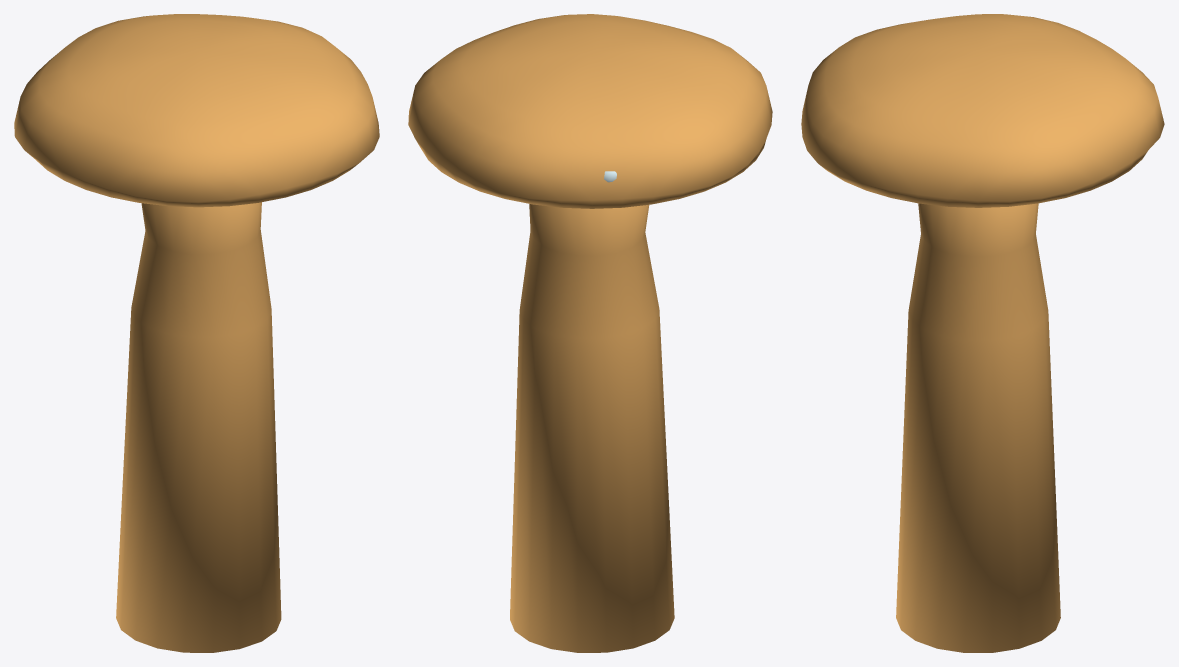
The model's file is mushroom_step_v2.glb.
The picture shows the model from 3 angles, left to right: view 1: azimuth 30°, elevation 25°; view 2: azimuth 150°, elevation 25°; view 3: azimuth 270°, elevation 25°; orthographic projection.
Parts seen in each view (by area): view 1: SM_Forest_MushroomStep_V2; view 2: SM_Forest_MushroomStep_V2; view 3: SM_Forest_MushroomStep_V2.
Part boxes in pixels (<box>): SM_Forest_MushroomStep_V2: <box>14,14,379,652</box>; SM_Forest_MushroomStep_V2: <box>408,14,772,652</box>; SM_Forest_MushroomStep_V2: <box>801,14,1164,652</box>.
Bounding box in the file's own units: 1.28 × 2.2 × 1.28.
